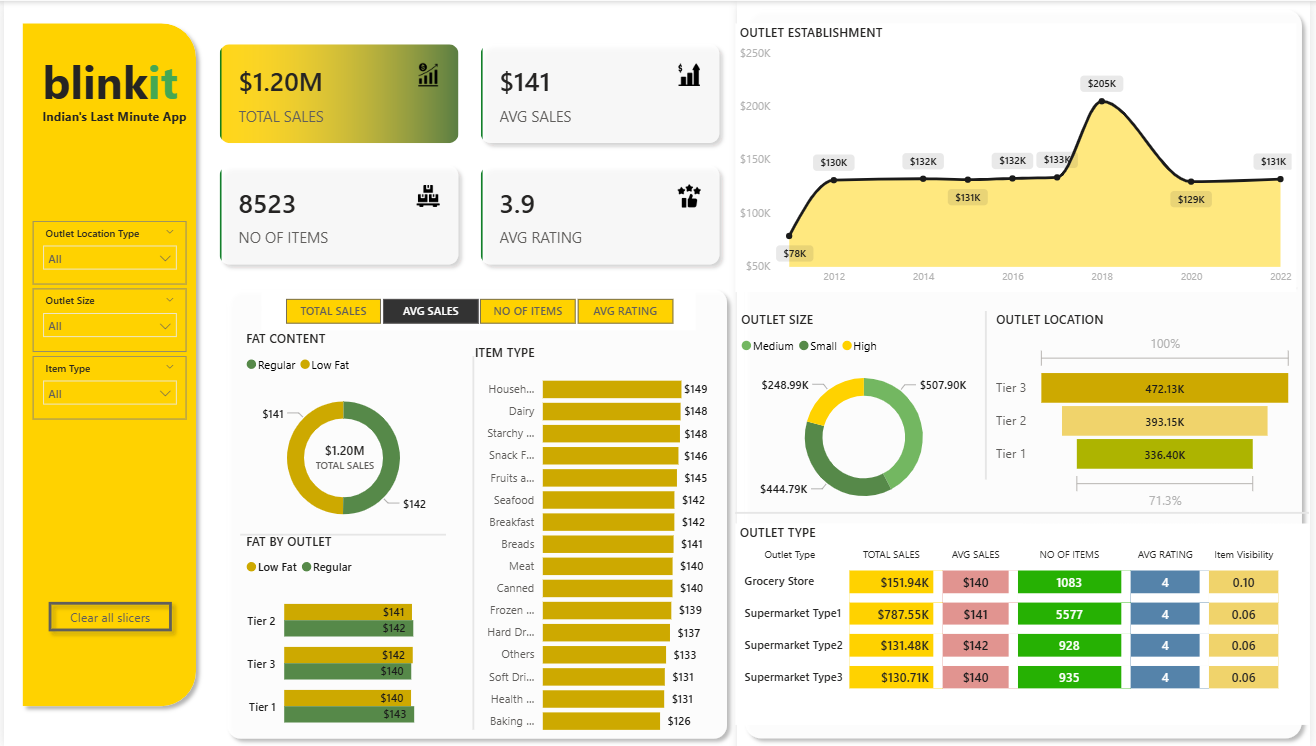

Layout of this report page (visuals, bound fields, positions):
{"tool":"powerbi","page":{"name":"Page 1","canvas":[1400,800],"ordinal":0},"visuals":[{"type":"shape","box":[10.5,15,204.1,750.4],"z":0},{"type":"textbox","box":[36,48,168.1,78],"z":1000},{"type":"textbox","box":[36,109.6,204.1,33],"z":2000},{"type":"cardVisual","fields":{"Data":["BlinkIT Grocery Data.TOTAL SALES","BlinkIT Grocery Data.AVG SALES","BlinkIT Grocery Data.NO OF ITEMS","BlinkIT Grocery Data.AVG RATING"]},"box":[214.6,30,570.3,270.2],"z":3000},{"type":"shape","box":[231.1,300.2,553.8,499.8],"z":4000},{"type":"donutChart","title":" FAT CONTENT","fields":{"Y":["BlinkIT Grocery Data.AVG SALES"],"Category":["BlinkIT Grocery Data.Item Fat Content"]},"box":[255.1,352.7,219.1,229.6],"z":5000},{"type":"slicer","fields":{"Values":["Metrics.Metrics"]},"box":[276.2,312.2,465.3,40.5],"z":6000},{"type":"cardVisual","fields":{"Data":["BlinkIT Grocery Data.TOTAL SALES"]},"box":[297.2,456.3,136.6,57],"z":7000},{"type":"clusteredBarChart","title":"FAT BY OUTLET","fields":{"Y":["BlinkIT Grocery Data.AVG SALES"],"Category":["BlinkIT Grocery Data.Outlet Location Type"],"Series":["BlinkIT Grocery Data.Item Fat Content"]},"box":[255.1,570.3,219.1,229.6],"z":8000},{"type":"shape","box":[797,304.7,589.8,7.5],"z":9000},{"type":"shape","box":[253.6,559.8,220.6,24],"z":10000},{"type":"barChart","title":"ITEM TYPE","fields":{"Y":["BlinkIT Grocery Data.AVG SALES"],"Category":["BlinkIT Grocery Data.Item Type"]},"box":[499.8,367.7,259.6,429.2],"z":11000},{"type":"shape","box":[785,0,615.4,800],"z":12000},{"type":"lineChart","title":"OUTLET ESTABLISHMENT","fields":{"Category":["BlinkIT Grocery Data.Outlet Establishment Year"],"Y":["BlinkIT Grocery Data.TOTAL SALES"]},"box":[784.2,24.1,601.9,288.2],"z":13000},{"type":"shape","box":[497.8,380.7,12,400.7],"z":14000},{"type":"donutChart","title":"OUTLET SIZE","fields":{"Y":["BlinkIT Grocery Data.TOTAL SALES"],"Category":["BlinkIT Grocery Data.Outlet Size"]},"box":[785.5,332.4,273.5,225.2],"z":15000},{"type":"shape","box":[1046.9,332.4,12.1,181],"z":16000},{"type":"funnel","title":"OUTLET LOCATION","fields":{"Y":["Sum(BlinkIT Grocery Data.Sales)"],"Category":["BlinkIT Grocery Data.Outlet Location Type"]},"box":[1059,332.4,328.4,218.5],"z":17000},{"type":"shape","box":[784.2,542.9,615.3,12.1],"z":18000},{"type":"pivotTable","title":"OUTLET TYPE","fields":{"Rows":["BlinkIT Grocery Data.Outlet Type"],"Values":["BlinkIT Grocery Data.TOTAL SALES","BlinkIT Grocery Data.AVG SALES","BlinkIT Grocery Data.NO OF ITEMS","BlinkIT Grocery Data.AVG RATING","Avg(BlinkIT Grocery Data.Item Visibility)"]},"box":[784.2,560.3,615.3,215.8],"z":19000},{"type":"slicer","fields":{"Values":["BlinkIT Grocery Data.Outlet Location Type"]},"box":[30.8,235.9,164.9,68.4],"z":20000},{"type":"slicer","fields":{"Values":["BlinkIT Grocery Data.Outlet Size"]},"box":[30.8,308.3,164.9,68.4],"z":21000},{"type":"slicer","fields":{"Values":["BlinkIT Grocery Data.Item Type"]},"box":[30.8,380.7,164.9,68.4],"z":22000},{"type":"actionButton","box":[38.9,635.4,150.1,49.6],"z":22001}]}

Visuals, with their boxes in screenshot pixels (x1, y1, x2, y2), scaled from the page's 1400x800 canvas onto the 1316x746 screenshot:
shape: 10, 14, 202, 714
textbox: 34, 45, 192, 117
textbox: 34, 102, 226, 133
cardVisual - BlinkIT Grocery Data.TOTAL SALES x BlinkIT Grocery Data.AVG SALES: 202, 28, 738, 280
shape: 217, 280, 738, 745
" FAT CONTENT" donutChart: 240, 329, 446, 543
slicer - Metrics.Metrics: 260, 291, 697, 329
cardVisual - BlinkIT Grocery Data.TOTAL SALES: 279, 425, 408, 479
"FAT BY OUTLET" clusteredBarChart: 240, 532, 446, 745
shape: 749, 284, 1304, 291
shape: 238, 522, 446, 544
"ITEM TYPE" barChart: 470, 343, 714, 743
shape: 738, 0, 1315, 745
"OUTLET ESTABLISHMENT" lineChart: 737, 22, 1303, 291
shape: 468, 355, 479, 729
"OUTLET SIZE" donutChart: 738, 310, 995, 520
shape: 984, 310, 995, 479
"OUTLET LOCATION" funnel: 995, 310, 1304, 514
shape: 737, 506, 1315, 518
"OUTLET TYPE" pivotTable: 737, 522, 1315, 724
slicer - BlinkIT Grocery Data.Outlet Location Type: 29, 220, 184, 284
slicer - BlinkIT Grocery Data.Outlet Size: 29, 287, 184, 351
slicer - BlinkIT Grocery Data.Item Type: 29, 355, 184, 419
actionButton: 37, 593, 178, 639
